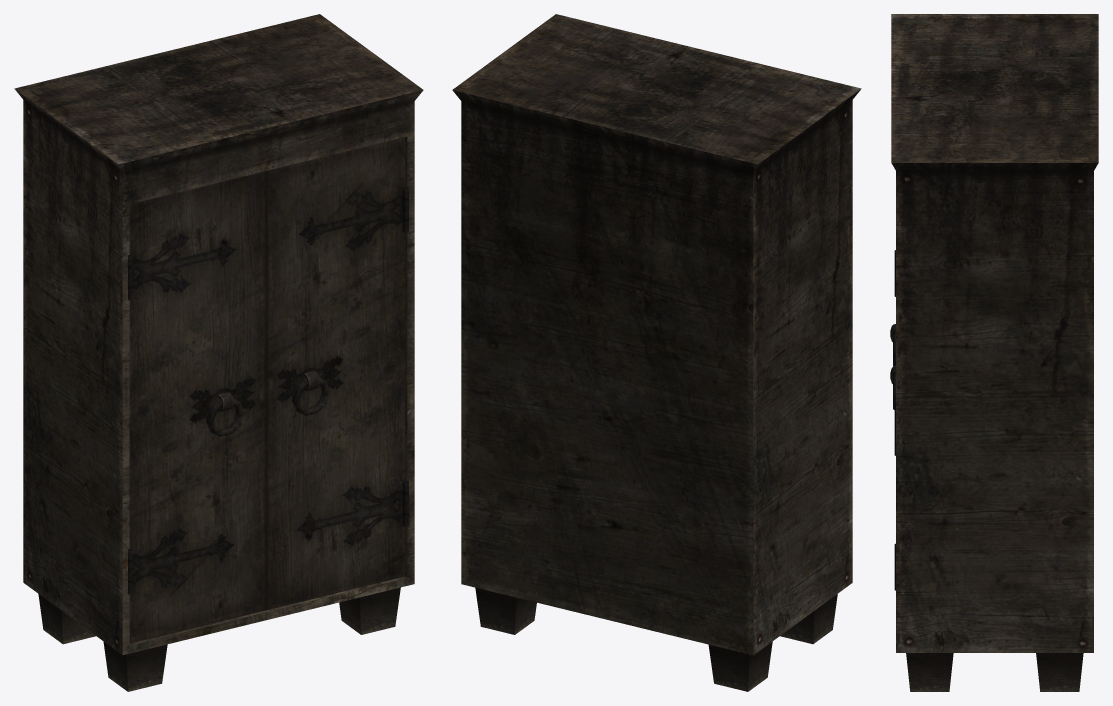
Rendered from cabinet_simple.dae.
3 renders of one model, left to right at view 1: azimuth 30°, elevation 25°; view 2: azimuth 150°, elevation 25°; view 3: azimuth 270°, elevation 25°, orthographic.
Visible parts, largest first — view 1: polySurface23, polySurface22, polySurface21; view 2: polySurface23; view 3: polySurface23.
Boxes of the visible parts, x1,y1,x2,y2 form: polySurface23: (14,14,423,691); polySurface22: (266,137,405,609); polySurface21: (129,171,266,643); polySurface23: (452,14,861,691); polySurface23: (891,14,1098,691).
Bounding box in the file's own units: 1.78 × 3 × 1.05.
